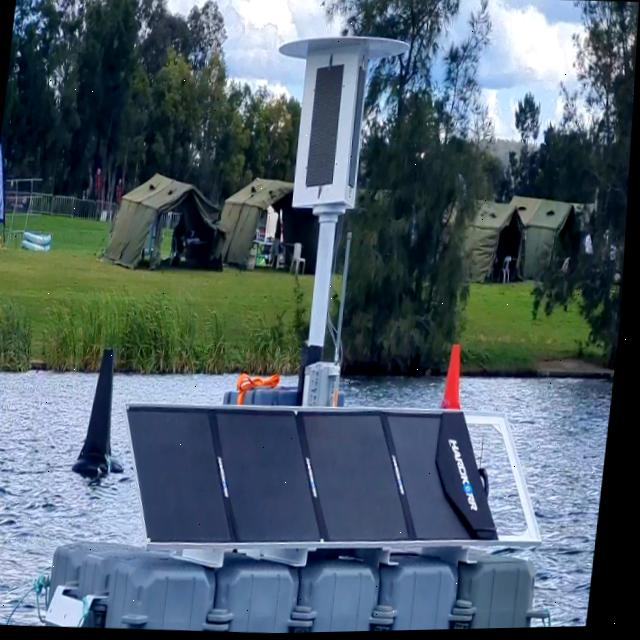led: (298, 54, 358, 200)
